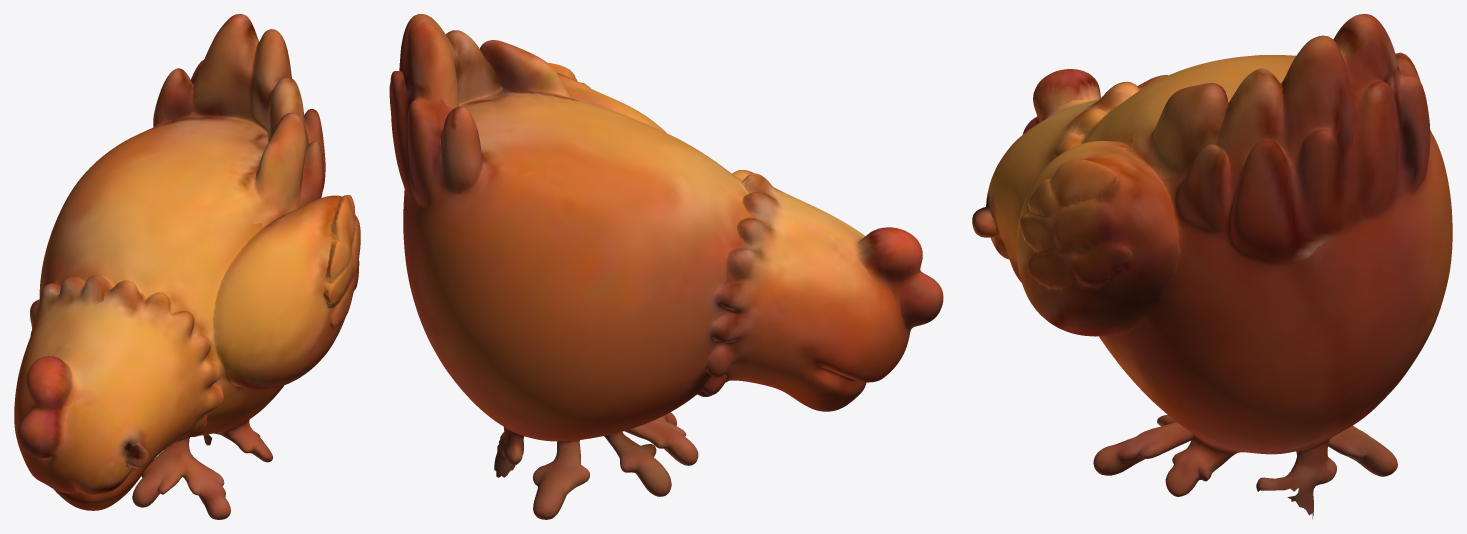
File: ga-mai.glb
3 renders of one model, left to right at view 1: azimuth 30°, elevation 25°; view 2: azimuth 150°, elevation 25°; view 3: azimuth 270°, elevation 25°, orthographic. The views are drawn at different scales.
Size of the model in its own units: 0.0977 by 0.0979 by 0.0798.
1 material, 1 textured.
